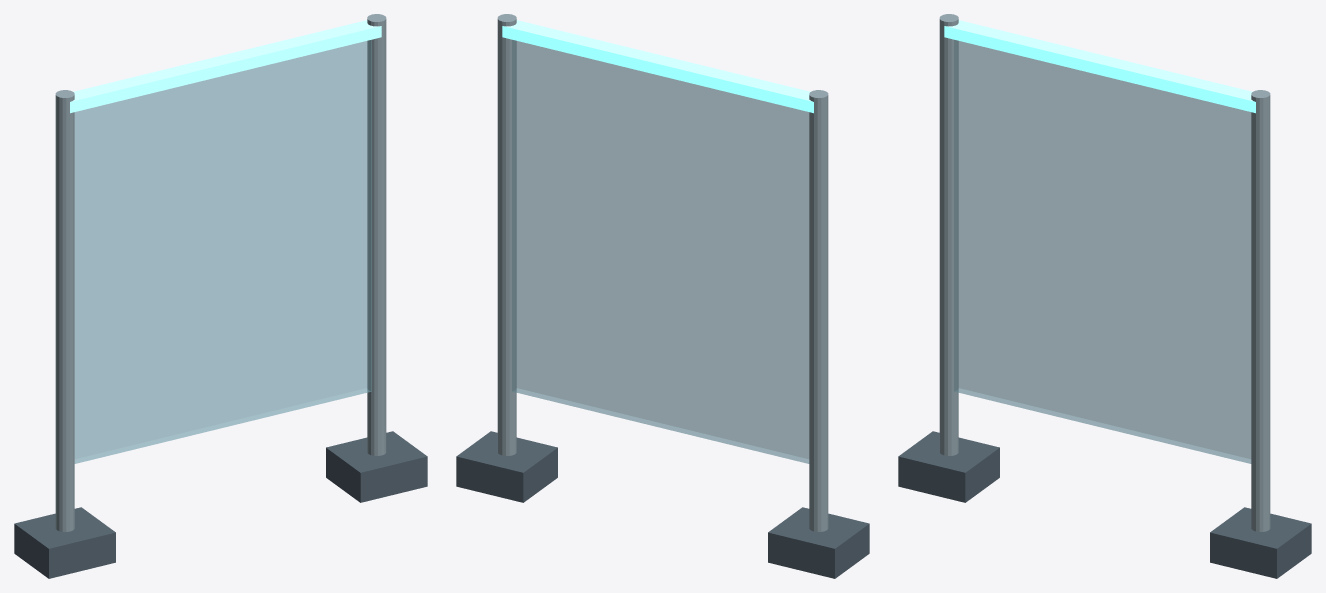
File: privacy_screen.glb
The picture shows the model from 3 angles, left to right: view 1: azimuth 30°, elevation 25°; view 2: azimuth 150°, elevation 25°; view 3: azimuth 330°, elevation 25°; orthographic projection.
Visible parts, largest first — view 1: glass_4, steel_0, steel_2, blue_5, dark_1, dark_3; view 2: glass_4, steel_0, steel_2, blue_5, dark_1, dark_3; view 3: glass_4, steel_2, steel_0, blue_5, dark_3, dark_1.
Boxes of the visible parts, x1=… form: glass_4: x1=74, y1=40, x2=371, y2=463; steel_0: x1=55, y1=90, x2=74, y2=531; steel_2: x1=367, y1=14, x2=386, y2=455; blue_5: x1=70, y1=20, x2=381, y2=113; dark_1: x1=14, y1=507, x2=115, y2=578; dark_3: x1=326, y1=431, x2=427, y2=502; glass_4: x1=512, y1=40, x2=809, y2=463; steel_0: x1=809, y1=90, x2=828, y2=531; steel_2: x1=497, y1=14, x2=516, y2=455; blue_5: x1=502, y1=20, x2=813, y2=113; dark_1: x1=768, y1=507, x2=869, y2=578; dark_3: x1=456, y1=431, x2=557, y2=502; glass_4: x1=954, y1=40, x2=1251, y2=463; steel_2: x1=1251, y1=90, x2=1270, y2=531; steel_0: x1=939, y1=14, x2=958, y2=455; blue_5: x1=944, y1=20, x2=1255, y2=113; dark_3: x1=1210, y1=507, x2=1311, y2=578; dark_1: x1=898, y1=431, x2=999, y2=502.
Size of the model in its own units: 1.58 by 1.85 by 0.25.
